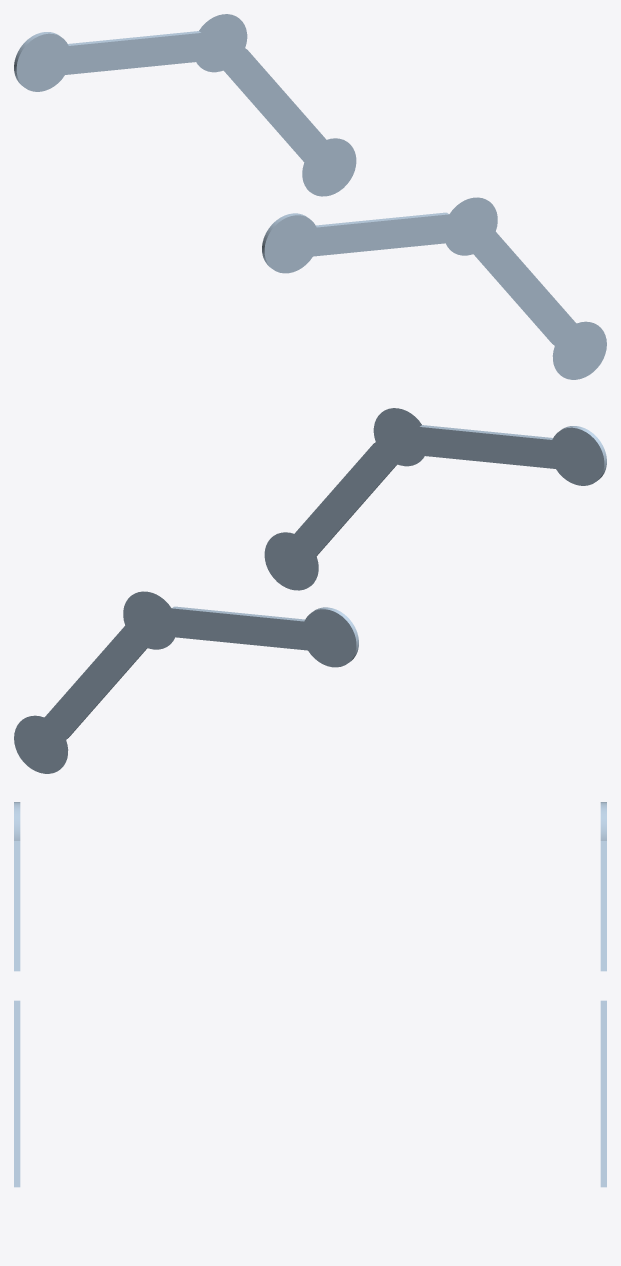
The model's file is IntakeArms.dae.
3 views of the same model, one above another, from view 1: azimuth 30°, elevation 25°; view 2: azimuth 150°, elevation 25°; view 3: azimuth 270°, elevation 25° (orthographic). The views are drawn at different scales.
Visible parts, largest first — view 1: RollersArm; view 2: RollersArm; view 3: RollersArm.
Part boxes in pixels (box(x1,y1,x2,y2)): RollersArm: box(14, 14, 606, 379); RollersArm: box(14, 408, 606, 773); RollersArm: box(14, 802, 606, 1187).
Size of the model in its own units: 0.481 by 0.6096 by 0.3135.
